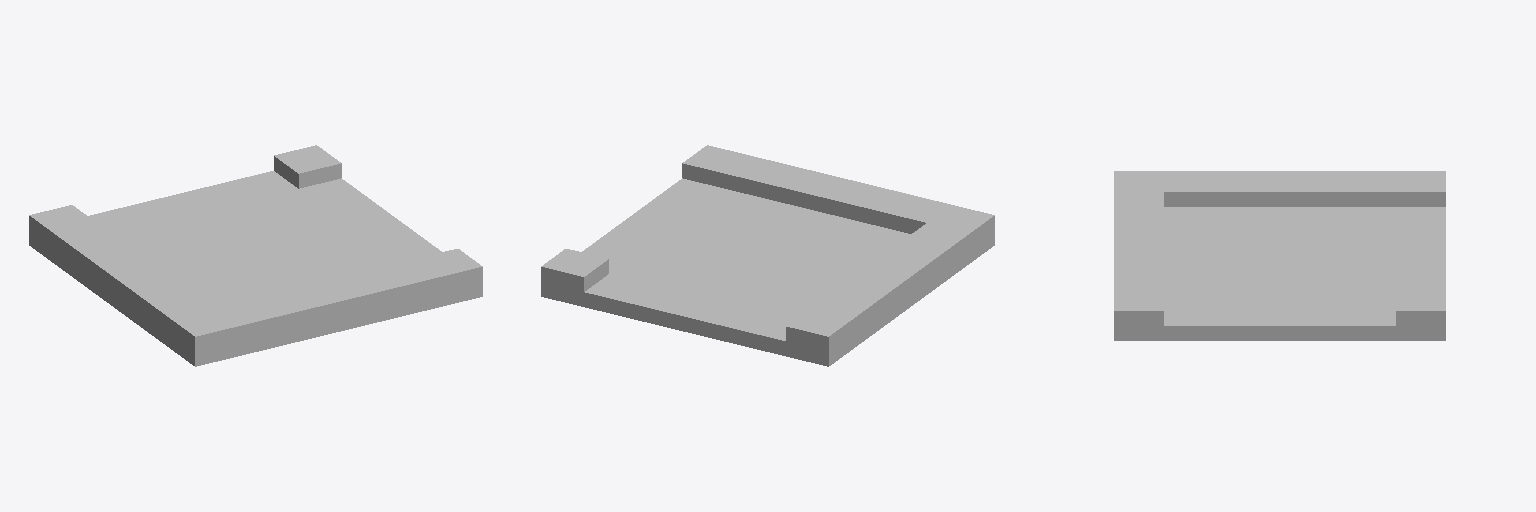
The model's file is Street Corner.obj.
3 renders of one model, left to right at view 1: azimuth 30°, elevation 25°; view 2: azimuth 150°, elevation 25°; view 3: azimuth 270°, elevation 25°, orthographic.
Visible parts, largest first — view 1: object 1; view 2: object 1; view 3: object 1.
Boxes of the visible parts, <box> form: object 1: <box>29,145,482,366</box>; object 1: <box>541,145,994,366</box>; object 1: <box>1114,171,1445,340</box>.
Bounding box in the file's own units: 4 × 0.4 × 4.